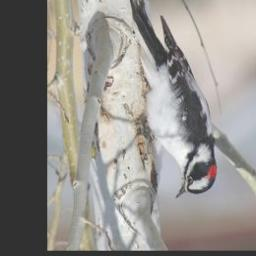Woodpecker: (127, 0, 216, 201)
